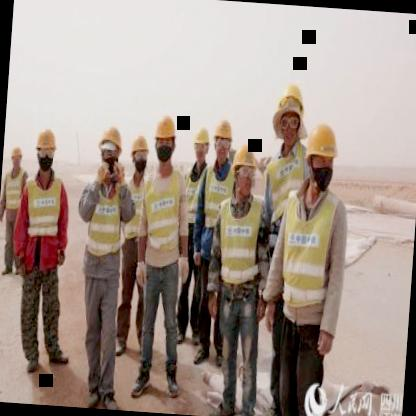helmet: (300, 116, 342, 200), (269, 78, 311, 154), (227, 138, 262, 209), (151, 108, 180, 166), (31, 123, 60, 177), (95, 122, 124, 172), (210, 116, 236, 168), (126, 130, 150, 178), (192, 126, 212, 164), (8, 144, 25, 178)
